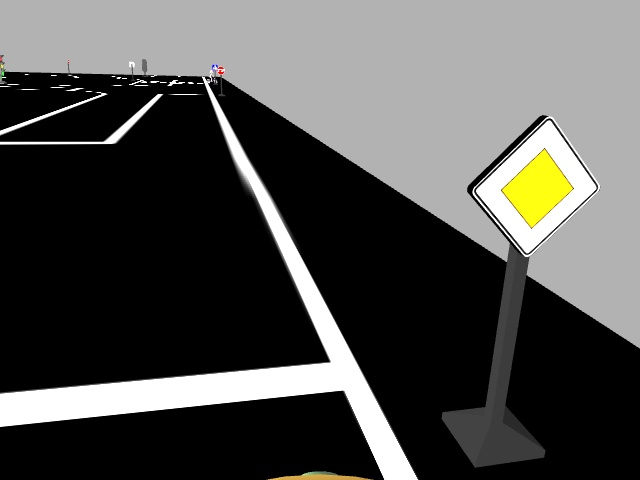Priority: (465, 112, 600, 257)
